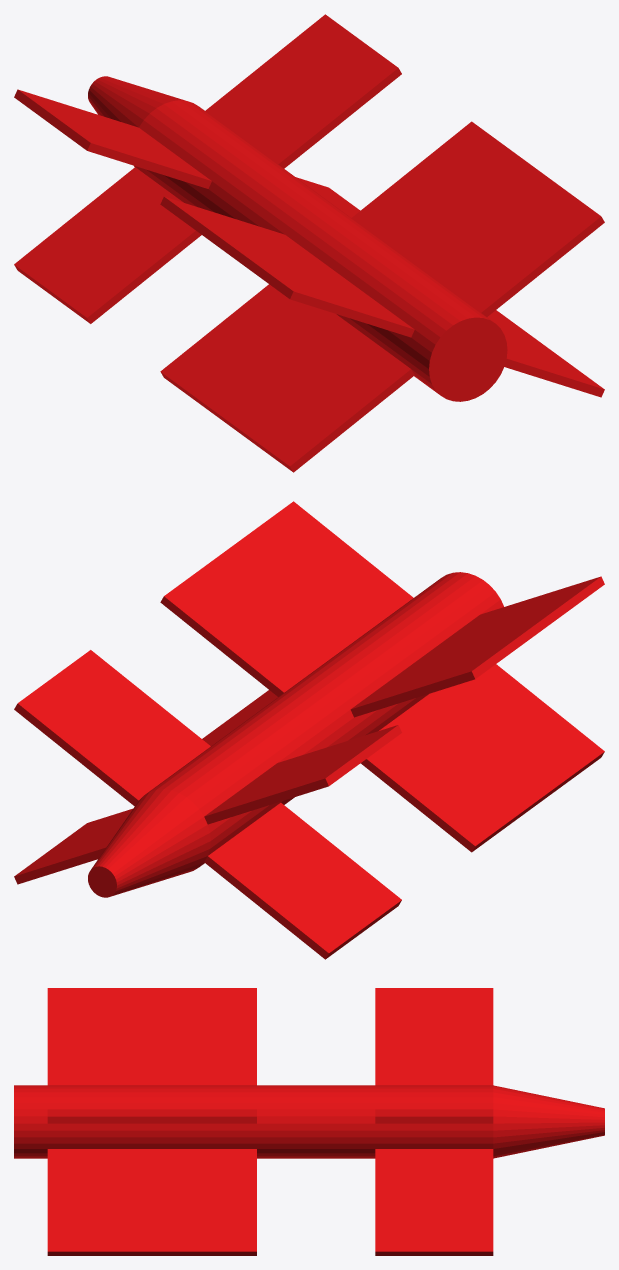
File: x_missle.glb
The picture shows the model from 3 angles, top to bottom: view 1: azimuth 30°, elevation 25°; view 2: azimuth 150°, elevation 25°; view 3: azimuth 270°, elevation 25°; orthographic projection. The views are drawn at different scales.
Visible parts, largest first — view 1: Cylinder; view 2: Cylinder; view 3: Cylinder.
Part boxes in pixels (bbox=[...]): Cylinder: bbox=[14, 14, 604, 472]; Cylinder: bbox=[14, 501, 604, 959]; Cylinder: bbox=[14, 988, 604, 1255].
Size of the model in its own units: 0.796 by 0.4378 by 1.6.
